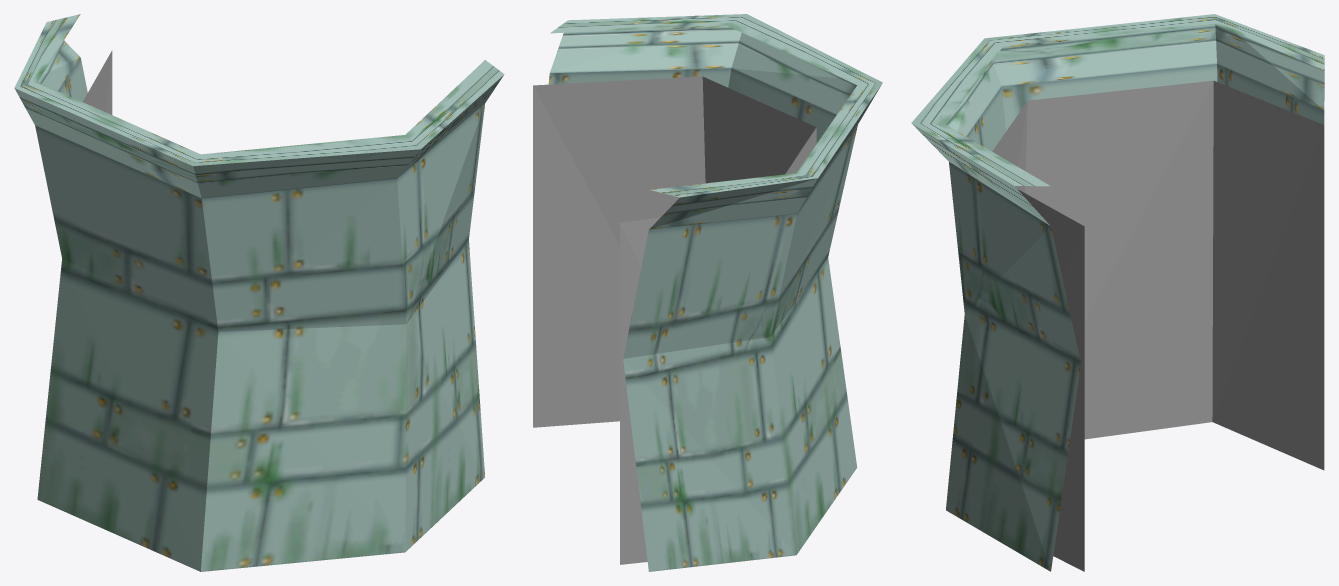
The model's file is W_Erker2_Hinterseite [TürkisesMetall]_1669.glb.
The picture shows the model from 3 angles, left to right: view 1: azimuth 30°, elevation 25°; view 2: azimuth 150°, elevation 25°; view 3: azimuth 270°, elevation 25°; orthographic projection. The views are drawn at different scales.
Parts seen in each view (by area): view 1: pPlaneShape3, pPlaneShape1, pPlaneShape2; view 2: pPlaneShape3, pPlaneShape2, pPlaneShape1; view 3: pPlaneShape2, pPlaneShape3, pPlaneShape1.
Boxes of the visible parts, <box> form: pPlaneShape3: <box>35,58,484,571</box>; pPlaneShape1: <box>14,14,504,198</box>; pPlaneShape2: <box>83,50,112,114</box>; pPlaneShape3: <box>548,68,857,571</box>; pPlaneShape2: <box>533,76,816,564</box>; pPlaneShape1: <box>550,14,882,229</box>; pPlaneShape2: <box>992,80,1324,571</box>; pPlaneShape3: <box>946,64,1324,571</box>; pPlaneShape1: <box>911,14,1324,225</box>.
Bounding box in the file's own units: 0.3726 × 0.3891 × 0.3781.
3 materials, 2 textured.
